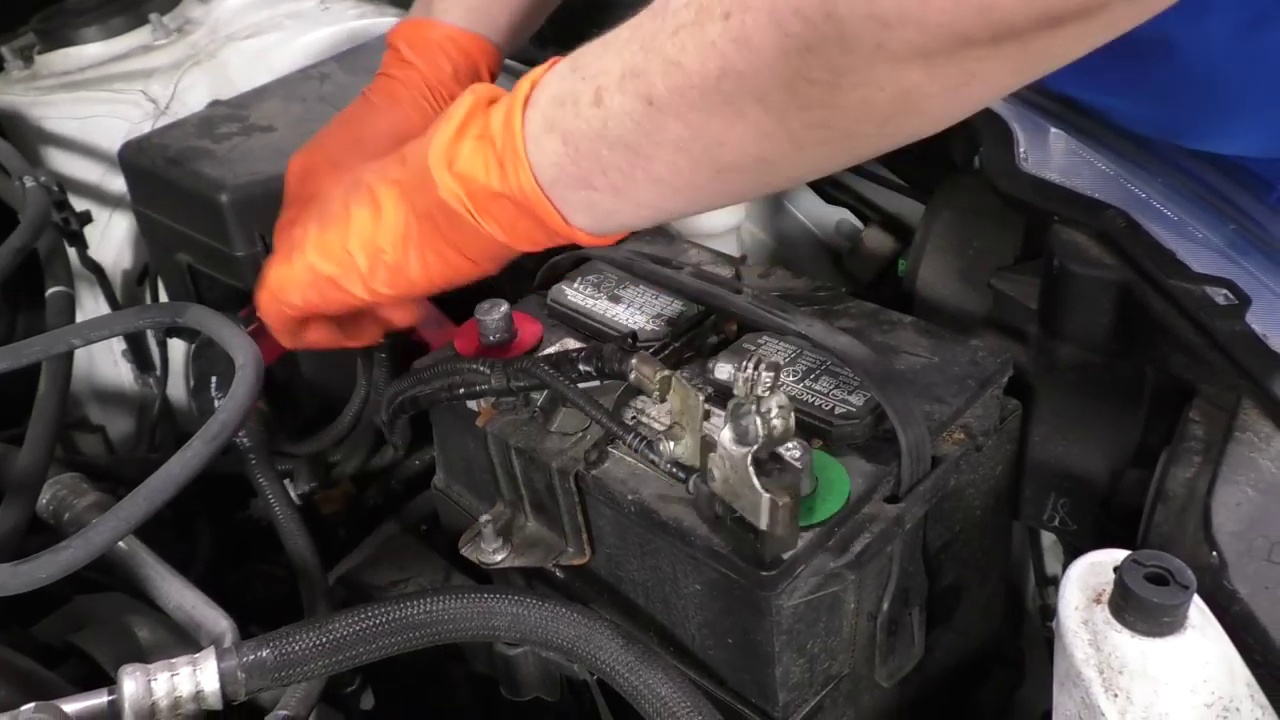battery: (429, 228, 1013, 539)
pos_touched: (323, 196, 556, 401)
